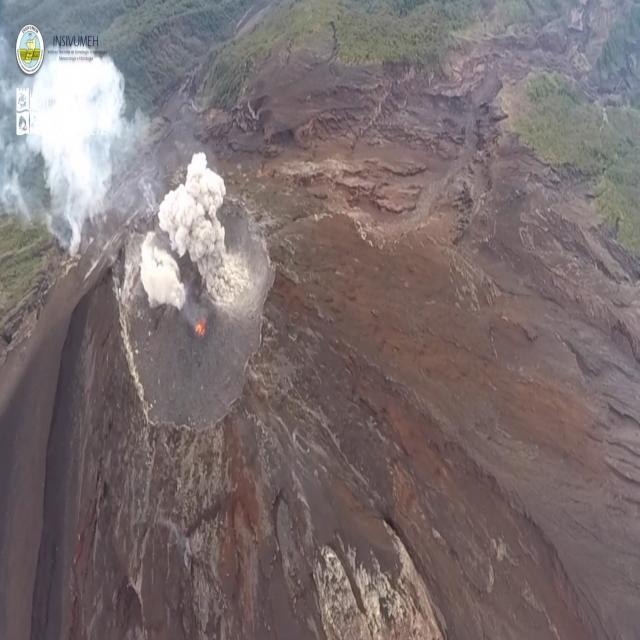Plume: (17, 40, 121, 232), (152, 145, 245, 305)
Summit: (84, 172, 298, 479), (137, 225, 190, 321)
